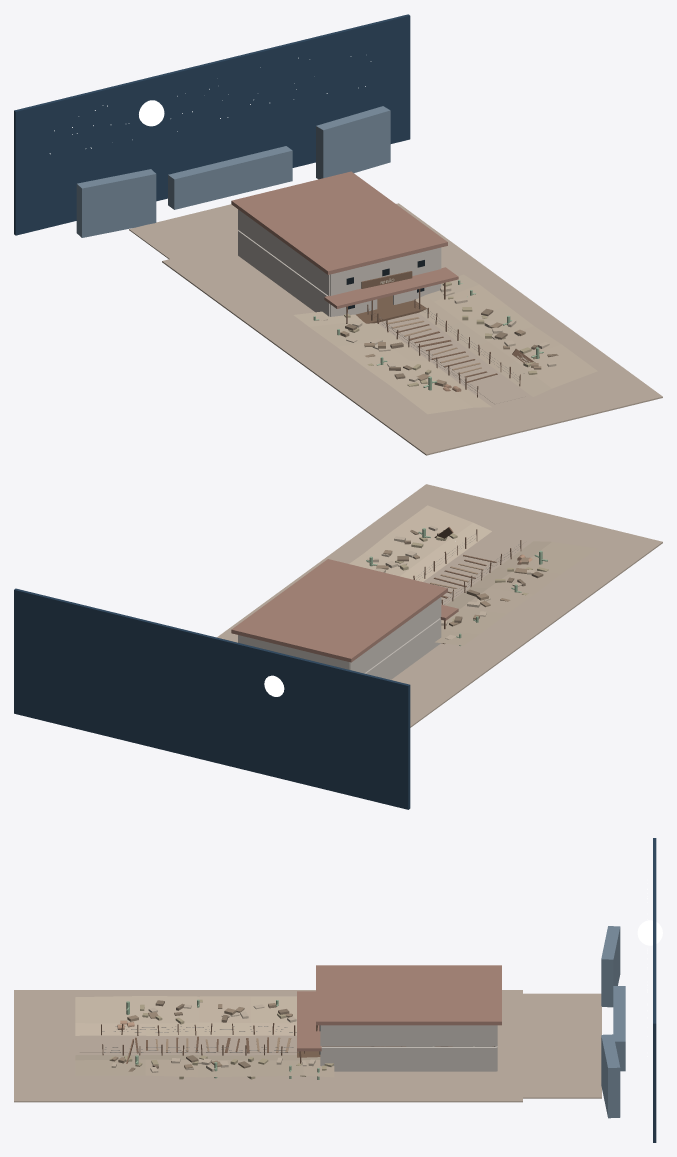
Rendered from trail_intro_pensao_vertical_slice_v01.glb.
3 views of the same model, one above another, from view 1: azimuth 30°, elevation 25°; view 2: azimuth 150°, elevation 25°; view 3: azimuth 270°, elevation 25° (orthographic). The views are drawn at different scales.
Visible parts, largest first — view 1: bg_sky_wall, ground_base_world, roof_main_large, cliff_right_sloped_bank, cliff_left_sloped_bank, bg_mountain_center, bg_mountain_left, bg_mountain_right, rear_ground_behind_pension, central_path_dirt, ext_left_wall_floor1, ext_front_wall_floor2 (+3 smaller); view 2: bg_sky_wall, ground_base_world, roof_main_large, cliff_left_sloped_bank, cliff_right_sloped_bank, central_path_dirt, ext_left_wall_floor2, ext_left_wall_floor1, ext_back_wall_floor2; view 3: ground_base_world, roof_main_large, rear_ground_behind_pension, cliff_left_sloped_bank, cliff_right_sloped_bank, ext_right_wall_floor1, ext_right_wall_floor2, central_path_dirt, bg_mountain_right, bg_mountain_left, roof_front_awning, bg_sky_wall (+1 smaller).
Part boxes in pixels (x1,y1,x2,y2): bg_sky_wall: (14, 14, 410, 235); ground_base_world: (162, 203, 662, 455); roof_main_large: (231, 171, 447, 274); cliff_right_sloped_bank: (415, 274, 597, 396); cliff_left_sloped_bank: (293, 311, 491, 414); bg_mountain_center: (168, 146, 292, 209); bg_mountain_left: (76, 169, 156, 237); bg_mountain_right: (316, 106, 390, 179); rear_ground_behind_pension: (129, 204, 238, 259); central_path_dirt: (382, 314, 525, 404); ext_left_wall_floor1: (238, 230, 329, 316); ext_front_wall_floor2: (330, 247, 440, 295); bg_sky_wall: (14, 588, 410, 809); ground_base_world: (217, 484, 662, 727); roof_main_large: (231, 559, 447, 662); cliff_left_sloped_bank: (435, 541, 597, 645); cliff_right_sloped_bank: (349, 505, 491, 581); central_path_dirt: (427, 534, 525, 603); ext_left_wall_floor2: (349, 597, 441, 673); ext_left_wall_floor1: (364, 618, 441, 679); ext_back_wall_floor2: (238, 635, 349, 669); ground_base_world: (14, 990, 522, 1102); roof_main_large: (316, 965, 501, 1025); rear_ground_behind_pension: (523, 993, 601, 1098); cliff_left_sloped_bank: (75, 996, 296, 1035); cliff_right_sloped_bank: (75, 1055, 334, 1077); ext_right_wall_floor1: (321, 1047, 496, 1071); ext_right_wall_floor2: (321, 1025, 496, 1046); central_path_dirt: (79, 1038, 296, 1052); bg_mountain_right: (601, 1034, 620, 1118); bg_mountain_left: (601, 926, 620, 1007); roof_front_awning: (297, 991, 321, 1051); bg_sky_wall: (653, 838, 656, 1142).
Size of what is drawn, in the model's own units: 50 by 15 by 73.95.
